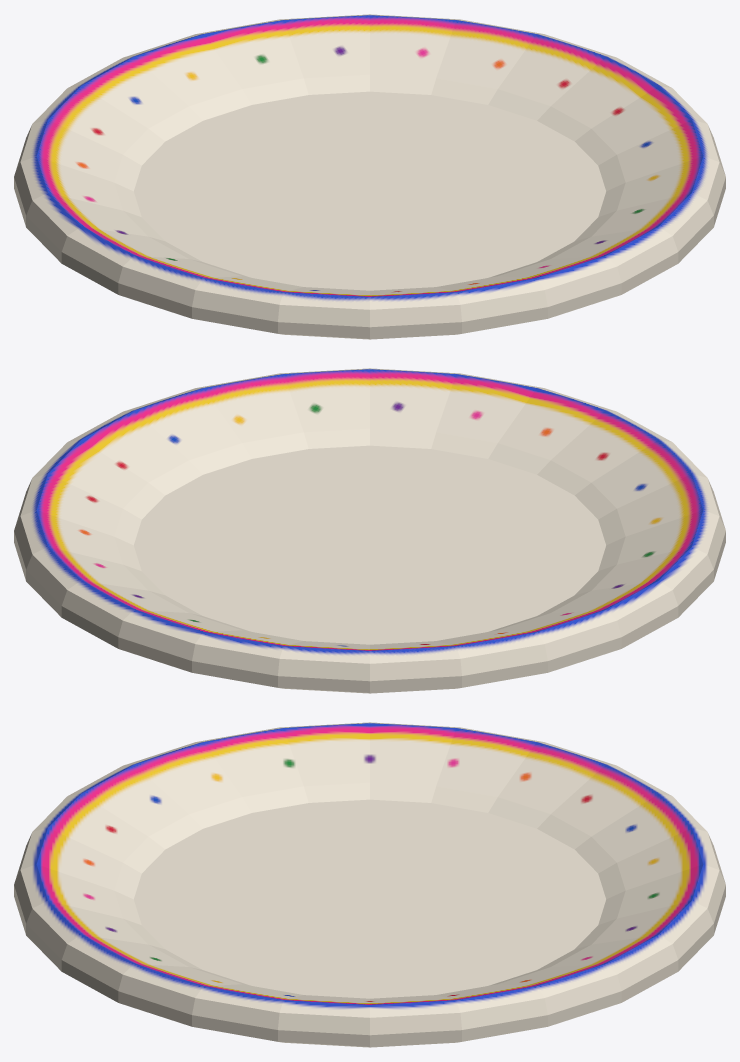
File: party_plate_border.glb
The picture shows the model from 3 angles, top to bottom: view 1: azimuth 30°, elevation 25°; view 2: azimuth 150°, elevation 25°; view 3: azimuth 270°, elevation 25°; orthographic projection.
Parts seen in each view (by area): view 1: party_plate_border; view 2: party_plate_border; view 3: party_plate_border.
Boxes of the visible parts, x1=… form: party_plate_border: x1=14, y1=14, x2=725, y2=339; party_plate_border: x1=14, y1=368, x2=725, y2=693; party_plate_border: x1=14, y1=722, x2=725, y2=1047.
Bounding box in the file's own units: 0.22 × 0.016 × 0.22.
Materials: 1 (1 with a texture image).
